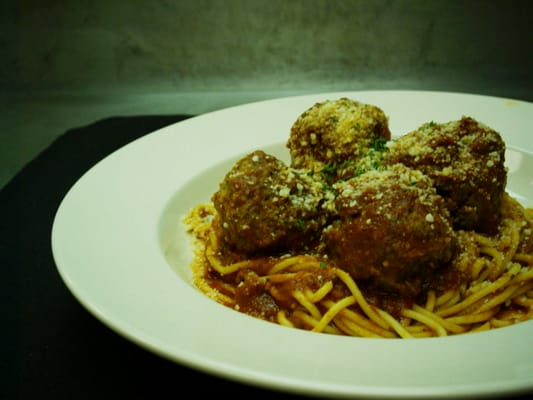curry: (212, 97, 523, 298)
